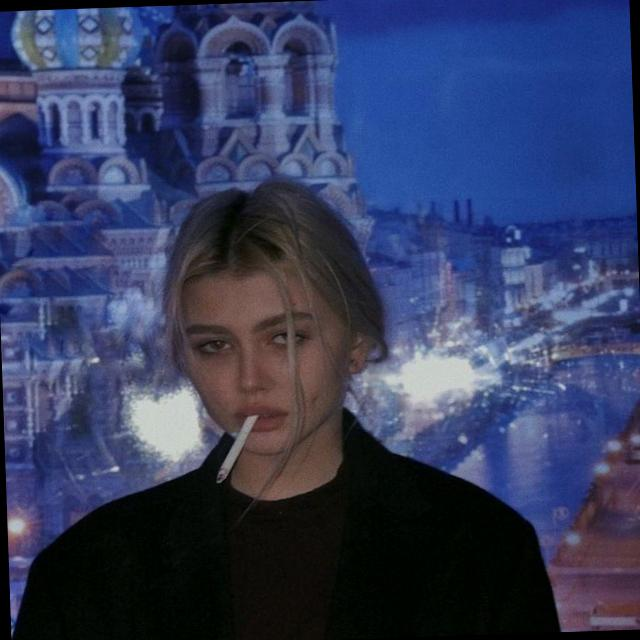cigarette: (206, 402, 264, 488)
